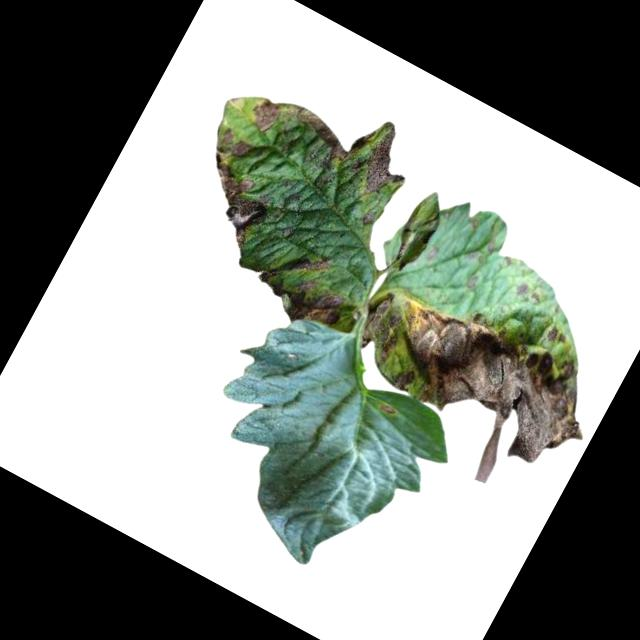Early_blight: (326, 265, 613, 512), (174, 125, 297, 256), (284, 101, 369, 167), (351, 124, 418, 203), (275, 270, 350, 340), (244, 91, 285, 136), (294, 244, 335, 280), (542, 322, 571, 349), (513, 279, 533, 299), (379, 399, 398, 416)
